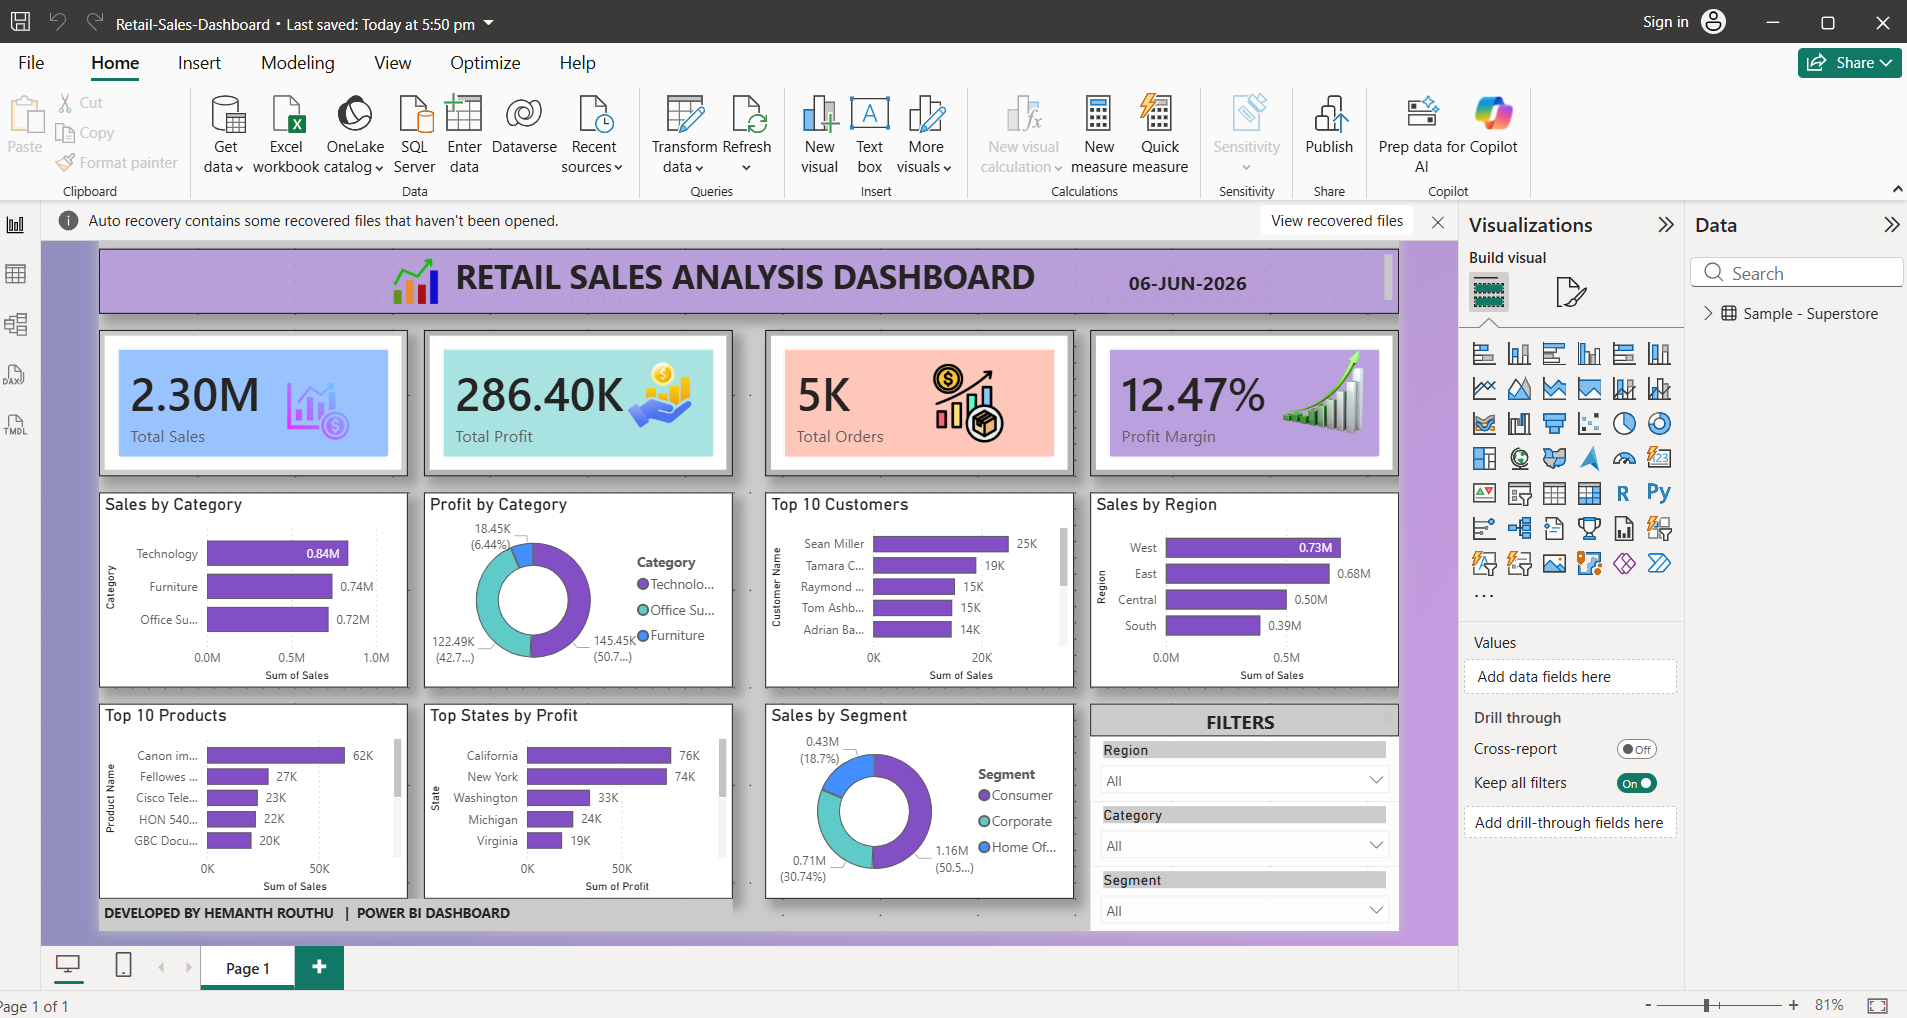

The page's visual inventory and layout, read from the dashboard file:
{"tool":"powerbi","page":{"name":"Page 1","canvas":[1280,720],"ordinal":0},"visuals":[{"type":"cardVisual","fields":{"Data":["Sample - Superstore.Total Sales"]},"box":[0,128,304,144],"z":0},{"type":"cardVisual","fields":{"Data":["Sample - Superstore.Total Profit"]},"box":[320,128,304,144],"z":1000},{"type":"cardVisual","fields":{"Data":["Sample - Superstore.Total Orders"]},"box":[656,128,304,144],"z":2000},{"type":"clusteredBarChart","title":"Sales by Category","fields":{"Category":["Sample - Superstore.Category"],"Y":["Sum(Sample - Superstore.Sales)"]},"box":[0,288,304,192],"z":3000},{"type":"cardVisual","fields":{"Data":["Sample - Superstore.Profit Margin"]},"box":[976,128,304,144],"z":4000},{"type":"donutChart","title":"Profit by Category","fields":{"Category":["Sample - Superstore.Category"],"Y":["Sum(Sample - Superstore.Profit)"]},"box":[320,288,304,192],"z":5000},{"type":"clusteredBarChart","title":"Sales by Region","fields":{"Category":["Sample - Superstore.Region"],"Y":["Sum(Sample - Superstore.Sales)"]},"box":[976,288,304,192],"z":6000},{"type":"clusteredBarChart","title":"Top 10 Customers","fields":{"Category":["Sample - Superstore.Customer Name"],"Y":["Sum(Sample - Superstore.Sales)"]},"box":[656,288,304,192],"z":7000},{"type":"clusteredBarChart","title":"Top 10 Products","fields":{"Category":["Sample - Superstore.Product Name"],"Y":["Sum(Sample - Superstore.Sales)"]},"box":[0,496,304,192],"z":8000},{"type":"clusteredBarChart","title":"Top States by Profit","fields":{"Category":["Sample - Superstore.State"],"Y":["Sum(Sample - Superstore.Profit)"]},"box":[320,496,304,192],"z":9000},{"type":"donutChart","title":"Sales by Segment","fields":{"Category":["Sample - Superstore.Segment"],"Y":["Sum(Sample - Superstore.Sales)"]},"box":[656,496,304,192],"z":10000},{"type":"textbox","box":[0,48,1280,64],"z":11000},{"type":"slicer","fields":{"Values":["Sample - Superstore.Region"]},"box":[976,528,304,64],"z":12000},{"type":"slicer","fields":{"Values":["Sample - Superstore.Category"]},"box":[976,592,304,64],"z":13000},{"type":"slicer","fields":{"Values":["Sample - Superstore.Segment"]},"box":[976,656,304,64],"z":14000},{"type":"textbox","box":[976,496,304,32],"z":15000},{"type":"textbox","box":[0,688,624,32],"z":16000},{"type":"image","box":[144,176,144,64],"z":17000},{"type":"image","box":[400,160,304,64],"z":17001},{"type":"image","box":[1136,144,144,96],"z":17002},{"type":"image","box":[704,160,304,80],"z":17003},{"type":"image","box":[256,48,112,64],"z":17004},{"type":"textbox","box":[992,64,160,48],"z":17005}]}

Visuals, with their boxes on the page's 1280x720 design canvas (x1, y1, x2, y2). These are canvas units, not pixel positions in the 1907x1018 screenshot, which may show the page scaled, cropped or inside an application window:
cardVisual - Sample - Superstore.Total Sales: select_region(0, 128, 304, 272)
cardVisual - Sample - Superstore.Total Profit: select_region(320, 128, 624, 272)
cardVisual - Sample - Superstore.Total Orders: select_region(656, 128, 960, 272)
"Sales by Category" clusteredBarChart: select_region(0, 288, 304, 480)
cardVisual - Sample - Superstore.Profit Margin: select_region(976, 128, 1280, 272)
"Profit by Category" donutChart: select_region(320, 288, 624, 480)
"Sales by Region" clusteredBarChart: select_region(976, 288, 1280, 480)
"Top 10 Customers" clusteredBarChart: select_region(656, 288, 960, 480)
"Top 10 Products" clusteredBarChart: select_region(0, 496, 304, 688)
"Top States by Profit" clusteredBarChart: select_region(320, 496, 624, 688)
"Sales by Segment" donutChart: select_region(656, 496, 960, 688)
textbox: select_region(0, 48, 1280, 112)
slicer - Sample - Superstore.Region: select_region(976, 528, 1280, 592)
slicer - Sample - Superstore.Category: select_region(976, 592, 1280, 656)
slicer - Sample - Superstore.Segment: select_region(976, 656, 1280, 720)
textbox: select_region(976, 496, 1280, 528)
textbox: select_region(0, 688, 624, 720)
image: select_region(144, 176, 288, 240)
image: select_region(400, 160, 704, 224)
image: select_region(1136, 144, 1280, 240)
image: select_region(704, 160, 1008, 240)
image: select_region(256, 48, 368, 112)
textbox: select_region(992, 64, 1152, 112)
